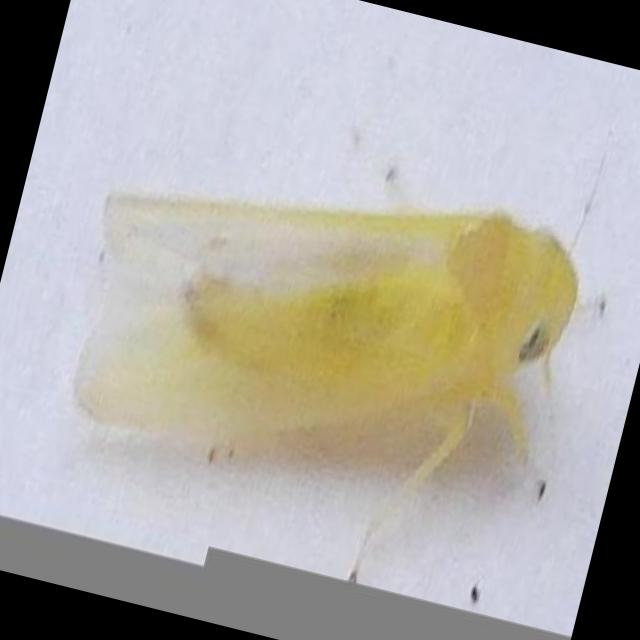green-leafhopper: (46, 130, 594, 519)
